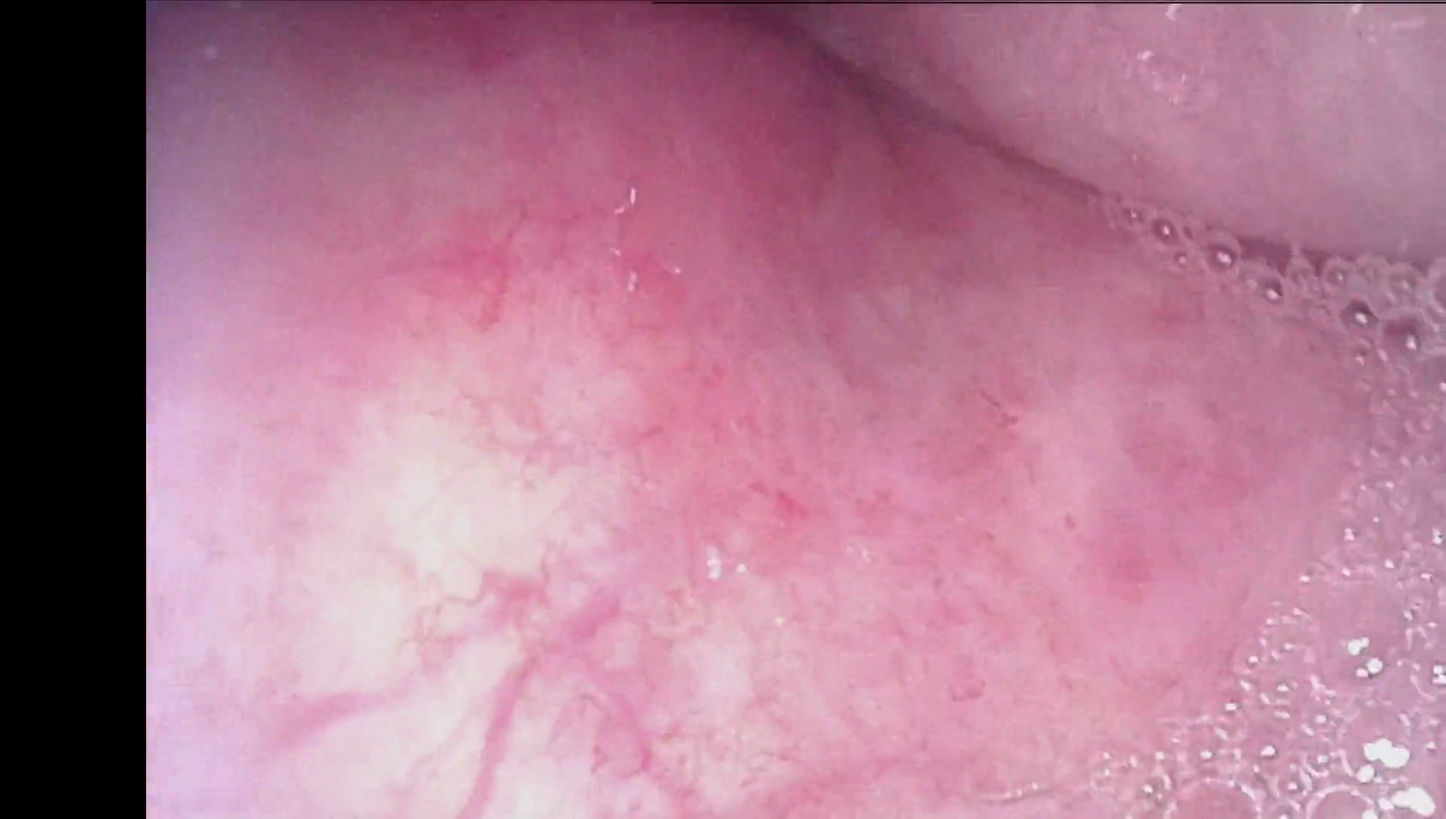close_wall: (171, 142, 1040, 819)
